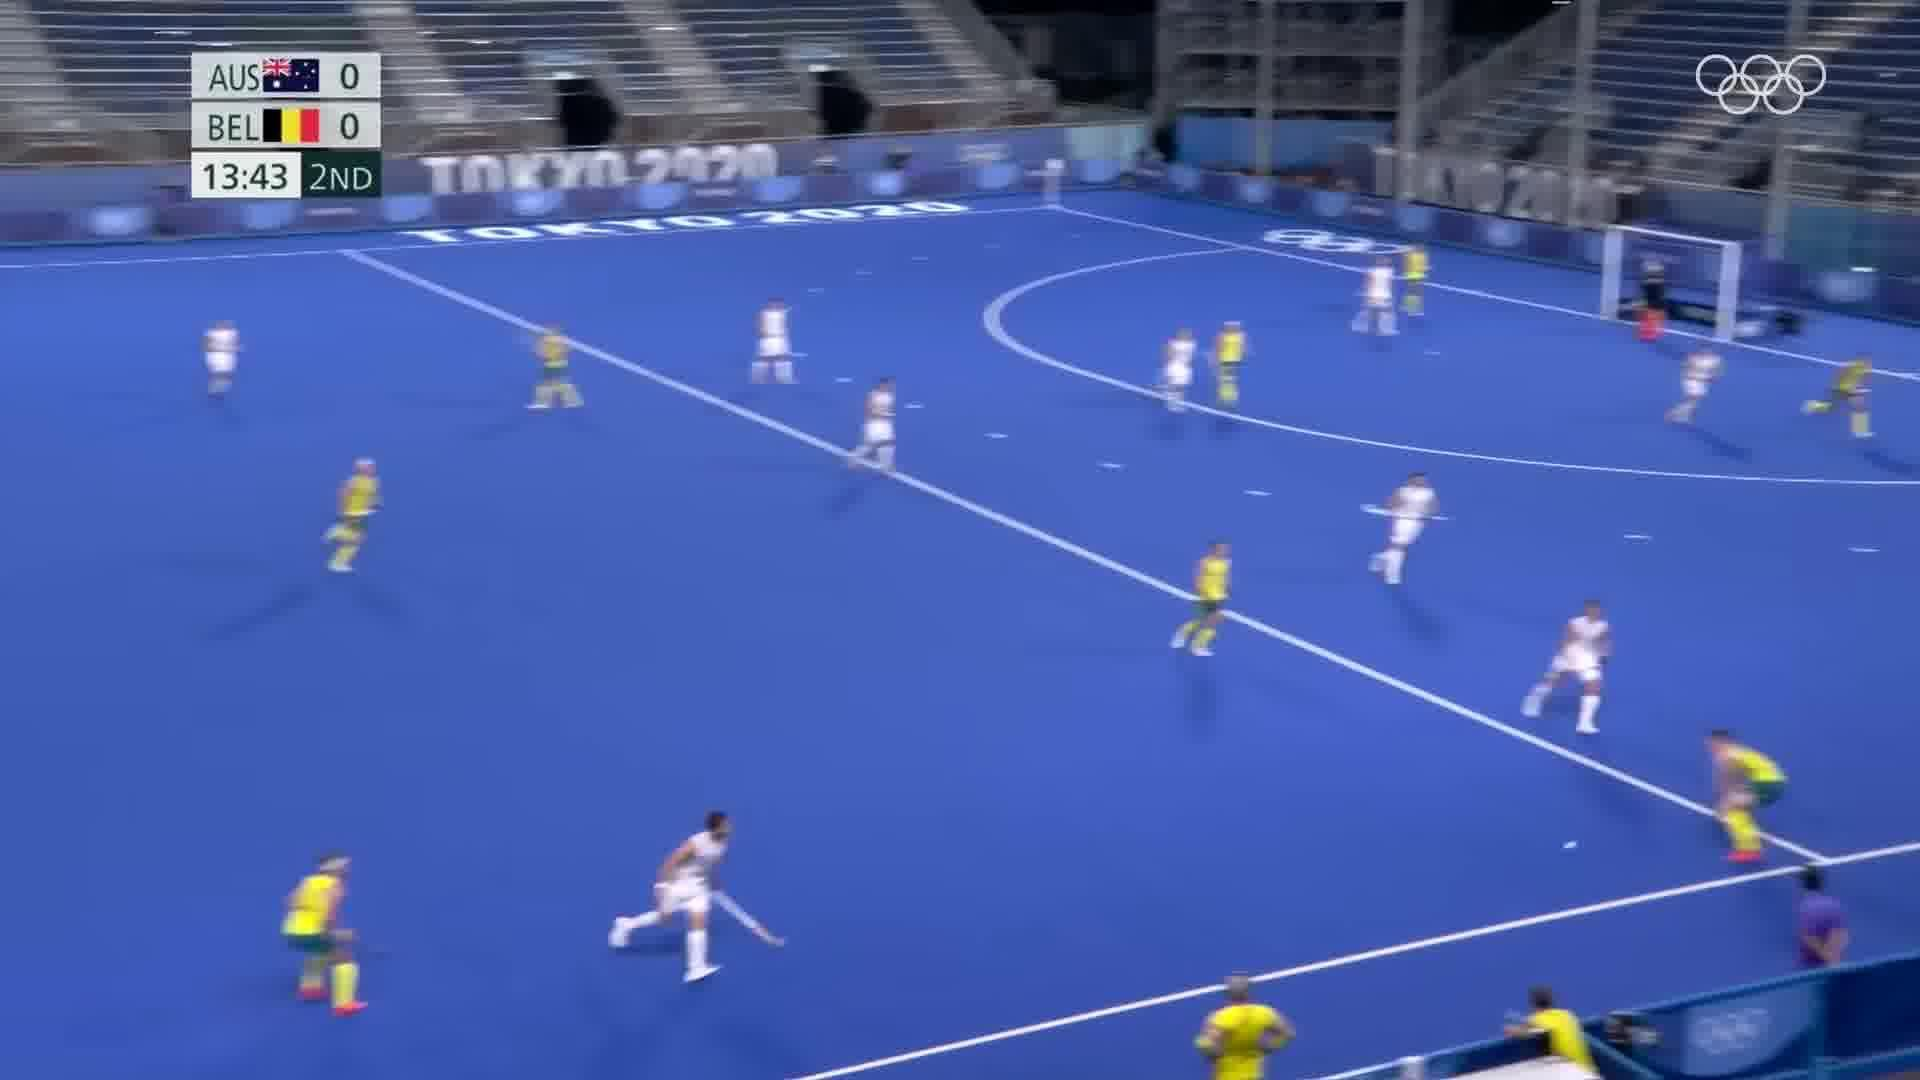ball: (1535, 831, 1600, 862)
